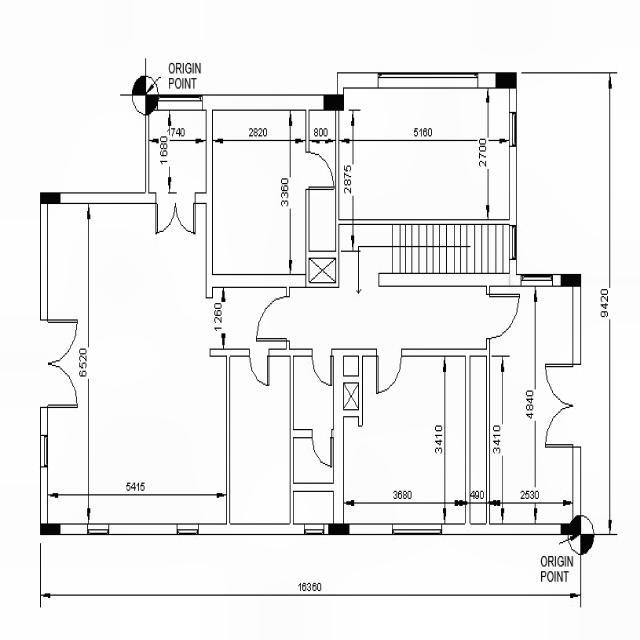Column: (323, 94, 344, 111), (496, 72, 516, 89), (560, 274, 582, 287), (328, 524, 349, 536), (561, 523, 581, 535), (40, 523, 60, 535), (40, 192, 60, 204)
Door: (256, 296, 290, 342), (486, 294, 520, 339), (376, 348, 402, 394), (306, 151, 334, 190), (248, 348, 270, 386), (312, 348, 332, 386), (312, 430, 332, 468)
Double-Door: (40, 319, 78, 408), (545, 363, 581, 448), (156, 192, 196, 235)
Staircase: (339, 225, 509, 273)
Window: (378, 72, 478, 89), (157, 94, 203, 111), (392, 524, 442, 536), (520, 274, 552, 287), (509, 112, 517, 147), (509, 225, 517, 260), (40, 434, 48, 468), (177, 523, 198, 535), (88, 524, 109, 536), (304, 524, 324, 536)
